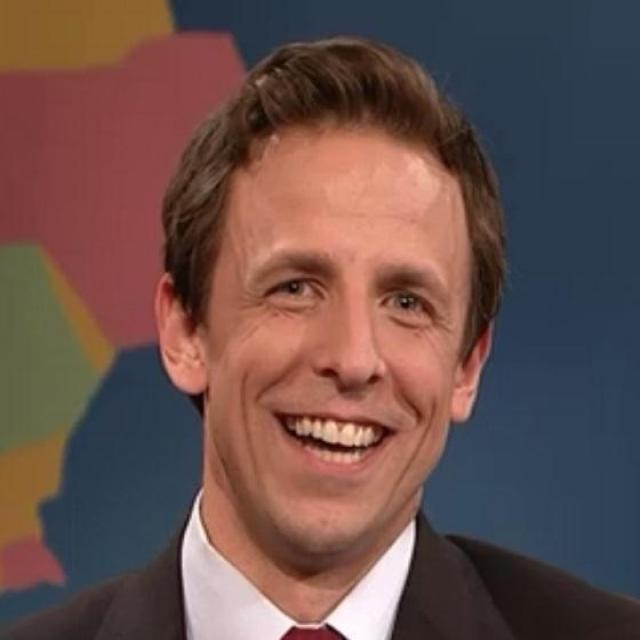0_rostro_limpio: (159, 104, 489, 564)
